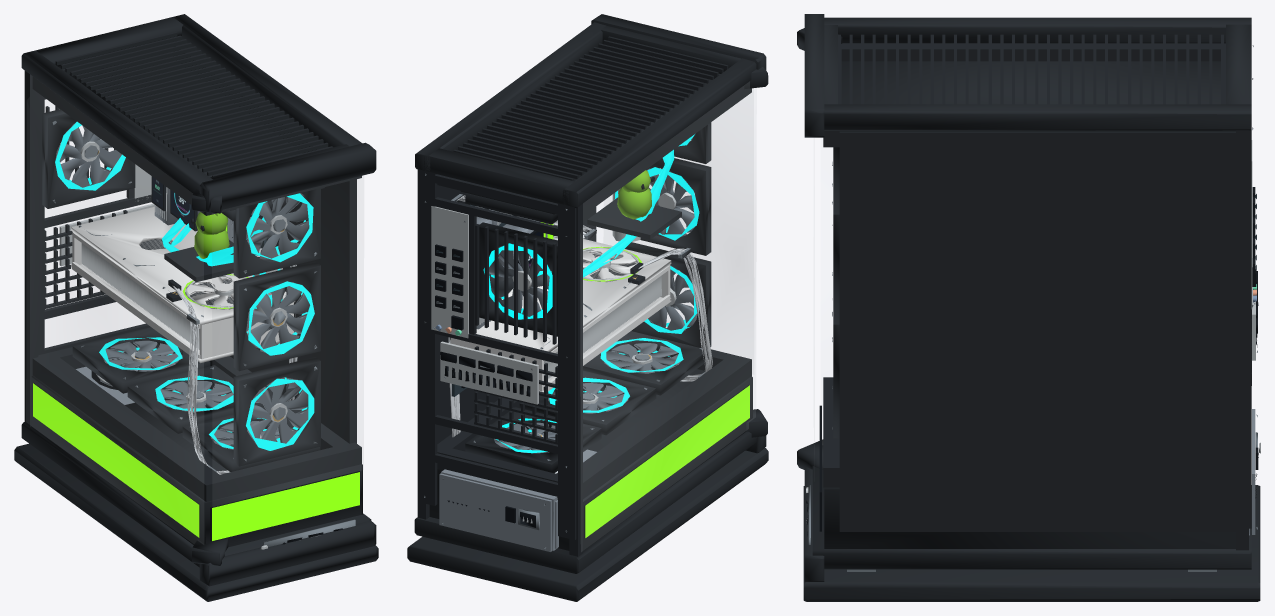
Rendered from display88-aurora.glb.
3 renders of one model, left to right at view 1: azimuth 30°, elevation 25°; view 2: azimuth 150°, elevation 25°; view 3: azimuth 270°, elevation 25°, orthographic. The views are drawn at different scales.
Parts seen in each view (by area): view 1: s83-surface-bbbb1dbd-70f6-401d-b2a7-103f2581be6a, s83-surface-cf50de42-9940-44c5-8194-ddea5a566ab4, s83-surface-17c68363-daca-4ec6-8ee4-e366062f2d02, s83-surface-5ba50372-da72-42fd-9974-8adc934bd271; view 2: s83-surface-bbbb1dbd-70f6-401d-b2a7-103f2581be6a, s83-surface-ca58d354-7b3e-4283-b833-52c49d954483, s83-surface-cf50de42-9940-44c5-8194-ddea5a566ab4, s83-surface-17c68363-daca-4ec6-8ee4-e366062f2d02; view 3: s83-surface-bbbb1dbd-70f6-401d-b2a7-103f2581be6a.
Part boxes in pixels (x1,y1,x2,y2): s83-surface-bbbb1dbd-70f6-401d-b2a7-103f2581be6a: [14, 14, 378, 601]; s83-surface-cf50de42-9940-44c5-8194-ddea5a566ab4: [33, 225, 359, 540]; s83-surface-17c68363-daca-4ec6-8ee4-e366062f2d02: [55, 121, 314, 450]; s83-surface-5ba50372-da72-42fd-9974-8adc934bd271: [171, 190, 193, 228]; s83-surface-bbbb1dbd-70f6-401d-b2a7-103f2581be6a: [407, 14, 768, 601]; s83-surface-ca58d354-7b3e-4283-b833-52c49d954483: [603, 88, 754, 374]; s83-surface-cf50de42-9940-44c5-8194-ddea5a566ab4: [541, 222, 749, 537]; s83-surface-17c68363-daca-4ec6-8ee4-e366062f2d02: [483, 134, 699, 453]; s83-surface-bbbb1dbd-70f6-401d-b2a7-103f2581be6a: [797, 14, 1260, 601].
Bounding box in the file's own units: 1.37 × 2.99 × 2.56.
Materials: 6 (5 with a texture image).
